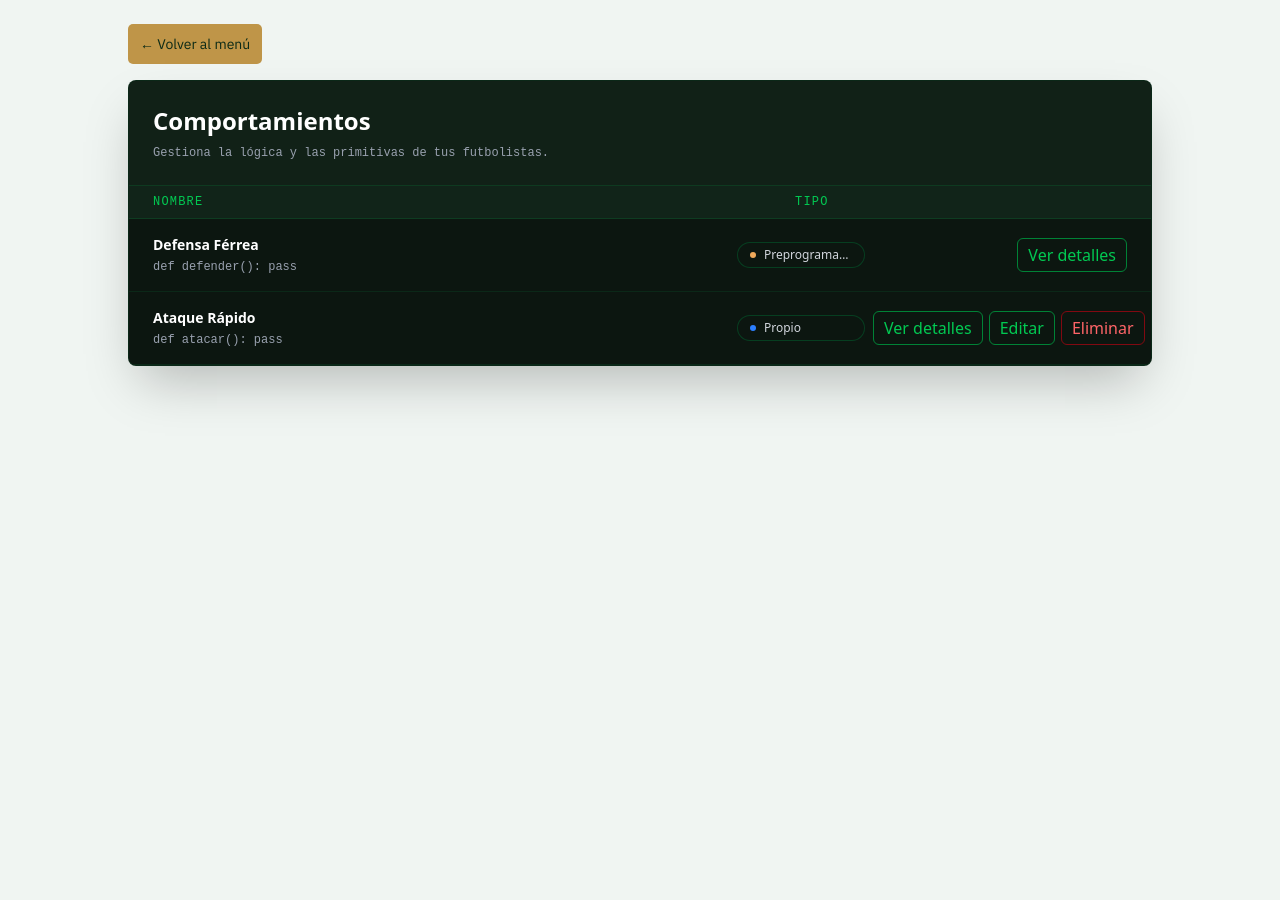
Test case: BehaviorPage › Debe abrir el modal con los datos exactos del comportamiento clickeado sin mezclar datos
Expected: the heading "Defensa Férrea" is shown, x1=153 y1=235 x2=259 y2=254
Expected: the heading "Ataque Rápido" is shown, x1=153 y1=308 x2=256 y2=327
Click the button "Ver detalles" next to "Propio". click: (928, 328)
box: x1=873 y1=311 x2=983 y2=345
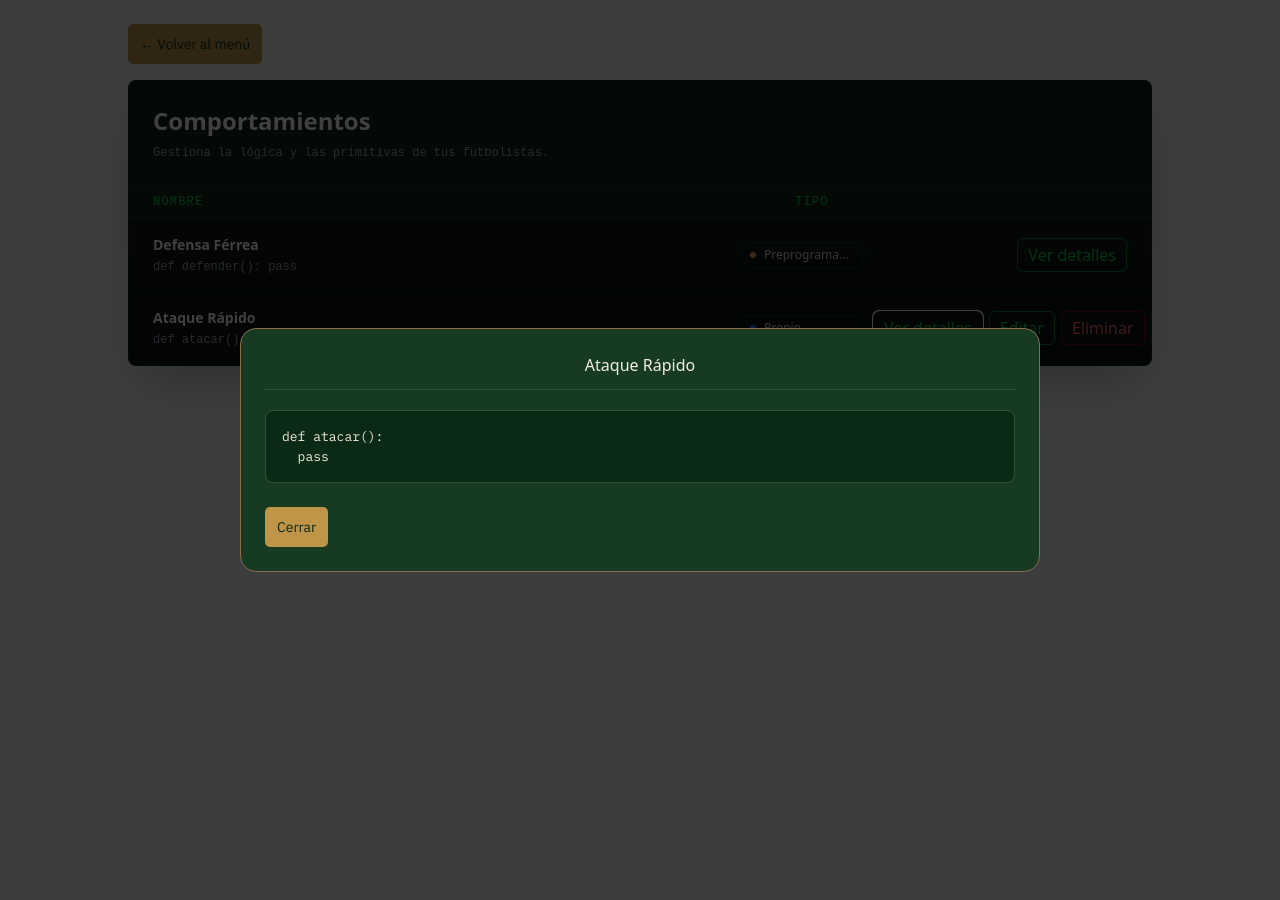
Result: the dialog is shown at x1=240 y1=328 x2=1040 y2=572
Result: the text "def atacar(): pass" is shown at x1=265 y1=410 x2=1015 y2=483
